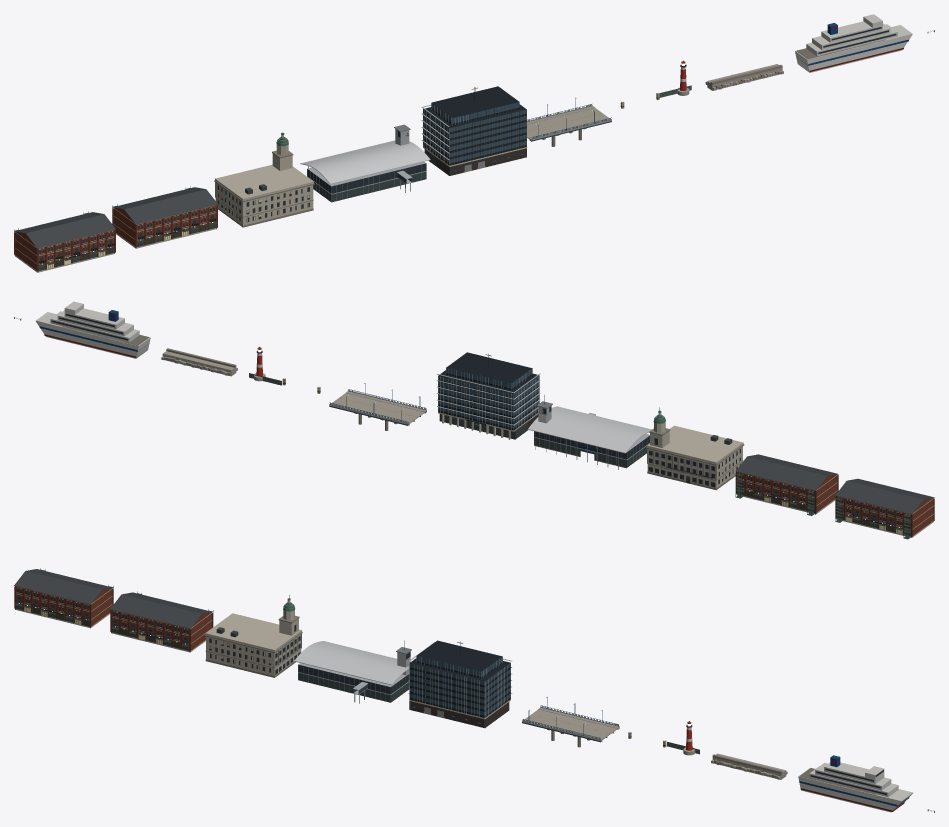
File: minato.glb
3 renders of one model, top to bottom at view 1: azimuth 30°, elevation 25°; view 2: azimuth 150°, elevation 25°; view 3: azimuth 330°, elevation 25°, orthographic. The views are drawn at different scales.
Parts seen in each view (by area): view 1: minato_kowan_body, minato_terminal_body, minato_zeikan_body, minato_renga_2_body, minato_renga_1_body, minato_ferry_body, minato_bridge_body, minato_teibo_body; view 2: minato_kowan_body, minato_terminal_body, minato_zeikan_body, minato_renga_2_body, minato_renga_1_body, minato_ferry_body, minato_bridge_body, minato_teibo_body; view 3: minato_kowan_body, minato_terminal_body, minato_zeikan_body, minato_renga_2_body, minato_renga_1_body, minato_ferry_body, minato_bridge_body, minato_teibo_body.
Part boxes in pixels (x1,y1,x2,y2): minato_kowan_body: (421,86,527,175); minato_terminal_body: (300,124,430,202); minato_zeikan_body: (214,132,314,227); minato_renga_2_body: (112,186,217,248); minato_renga_1_body: (14,211,115,272); minato_ferry_body: (795,14,912,72); minato_bridge_body: (527,97,611,146); minato_teibo_body: (705,64,783,90); minato_kowan_body: (436,352,540,439); minato_terminal_body: (527,395,651,469); minato_zeikan_body: (646,407,744,490); minato_renga_2_body: (735,454,838,515); minato_renga_1_body: (835,478,934,539); minato_ferry_body: (36,301,150,358); minato_bridge_body: (329,383,426,430); minato_teibo_body: (161,348,237,376); minato_kowan_body: (408,640,512,728); minato_terminal_body: (294,640,411,703); minato_zeikan_body: (204,595,302,677); minato_renga_2_body: (110,591,213,652); minato_renga_1_body: (14,568,113,628); minato_ferry_body: (798,755,913,812); minato_bridge_body: (522,697,619,747); minato_teibo_body: (711,753,787,779).
Bounding box in the file's own units: 523 × 46.9 × 42.8.
